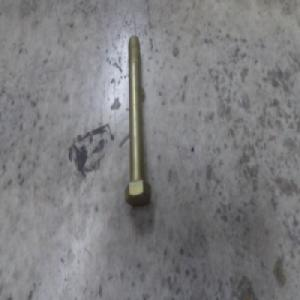Bolt: (125, 36, 150, 203)
